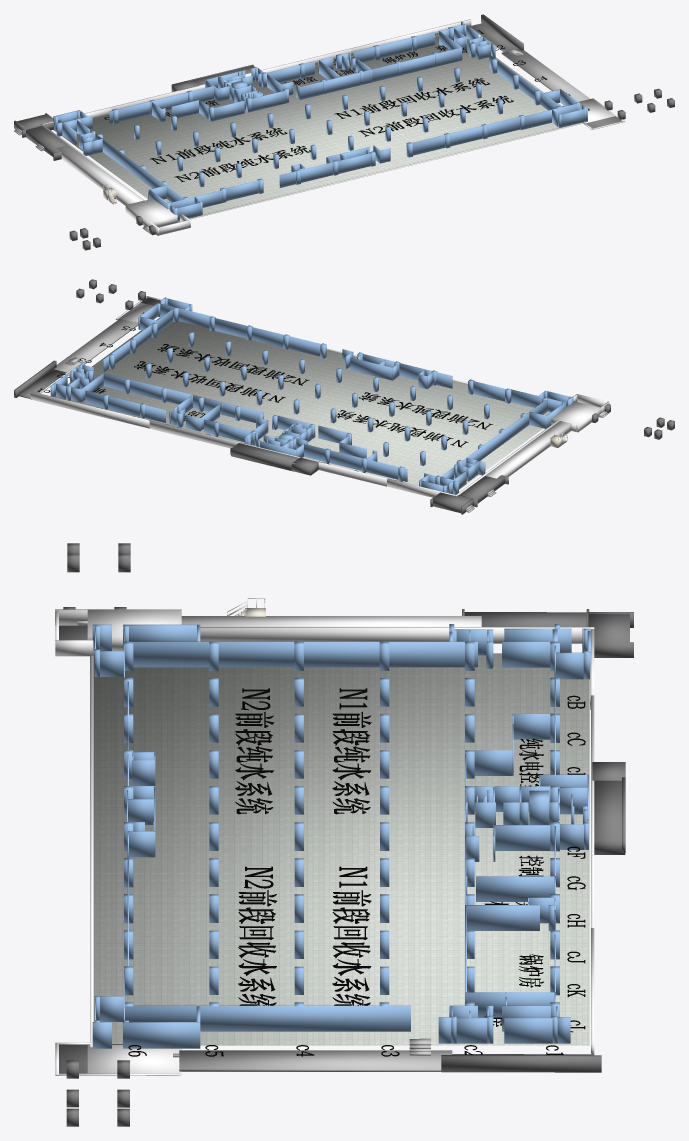
The model's file is cup_1f_mini.gltf.
3 renders of one model, top to bottom at view 1: azimuth 30°, elevation 25°; view 2: azimuth 150°, elevation 25°; view 3: azimuth 270°, elevation 25°, orthographic. The views are drawn at different scales.
Parts seen in each view (by area): view 1: cup_dimian_1f, cup_qiang_1f_142, cup_waiguan_1_15, cup_waiguan_1_50, cup_qiang_1f_101, cup_qiang_1f_189, cup_qiang_1f_186, cup_waiguan_1_28, cup_qiang_1f_98, cup_qiang_1f_96, cup_waiguan_1_29, cup_waiguan_1_72 (+19 smaller); view 2: cup_dimian_1f, cup_waiguan_1_29, cup_qiang_1f_142, cup_waiguan_1_15, cup_waiguan_1_50, cup_qiang_1f_189, cup_waiguan_1_32, cup_qiang_1f_101, cup_qiang_1f_186, cup_qiang_1f_98, cup_waiguan_1_28, cup_qiang_1f_125 (+19 smaller); view 3: cup_dimian_1f, cup_qiang_1f_186, cup_qiang_1f_125, cup_waiguan_1_50, cup_waiguan_1_71, cup_waiguan_1_15, cup_waiguan_1_63, n2_1, n1, cup_waiguan_1_25, n2, n1_1 (+18 smaller).
Part boxes in pixels (box(x1,y1,x2,y2)): cup_dimian_1f: box(53, 35, 562, 221); cup_qiang_1f_142: box(407, 116, 519, 156); cup_waiguan_1_15: box(57, 145, 143, 205); cup_waiguan_1_50: box(501, 48, 589, 102); cup_qiang_1f_101: box(371, 47, 461, 82); cup_qiang_1f_189: box(109, 86, 213, 124); cup_qiang_1f_186: box(95, 134, 185, 205); cup_waiguan_1_28: box(125, 198, 177, 227); cup_qiang_1f_98: box(353, 32, 434, 62); cup_qiang_1f_96: box(299, 69, 371, 99); cup_waiguan_1_29: box(110, 48, 351, 110); cup_waiguan_1_72: box(179, 121, 586, 221); cup_dimian_1f: box(55, 317, 550, 492); cup_waiguan_1_29: box(149, 420, 387, 486); cup_qiang_1f_142: box(214, 318, 325, 357); cup_waiguan_1_15: box(485, 421, 571, 478); cup_waiguan_1_50: box(54, 319, 138, 374); cup_qiang_1f_189: box(304, 444, 407, 481); cup_waiguan_1_32: box(30, 391, 149, 428); cup_qiang_1f_101: box(103, 373, 192, 407); cup_qiang_1f_186: box(459, 399, 547, 466); cup_qiang_1f_98: box(85, 390, 165, 422); cup_waiguan_1_28: box(551, 401, 601, 431); cup_qiang_1f_125: box(103, 309, 172, 372); cup_dimian_1f: box(93, 653, 589, 1045); cup_qiang_1f_186: box(133, 641, 477, 667); cup_qiang_1f_125: box(125, 1005, 410, 1031); cup_waiguan_1_50: box(179, 1050, 452, 1071); cup_waiguan_1_71: box(200, 627, 594, 643); cup_waiguan_1_15: box(181, 616, 481, 626); cup_waiguan_1_63: box(441, 1055, 601, 1072); n2_1: box(238, 866, 276, 1005); n1: box(332, 866, 371, 1005); cup_waiguan_1_25: box(87, 1045, 181, 1075); n2: box(235, 688, 274, 814); n1_1: box(332, 688, 371, 814).
Size of the model in its own units: 266 by 5.67 by 114.
10 materials, 1 textured.
